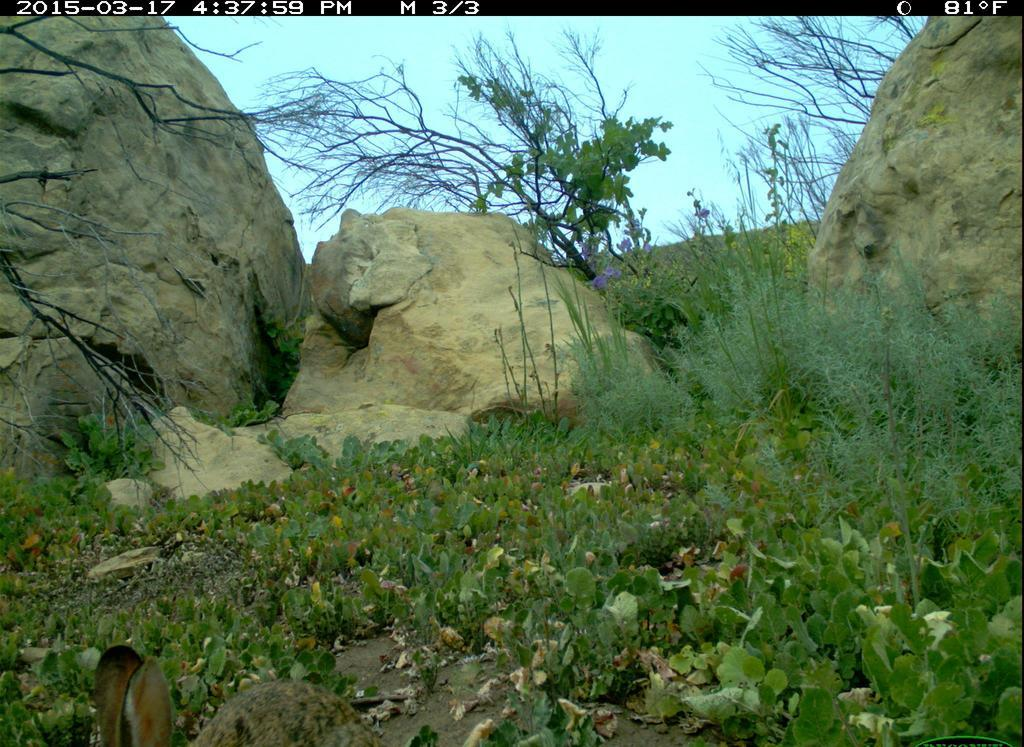rabbit: (82, 638, 399, 747)
